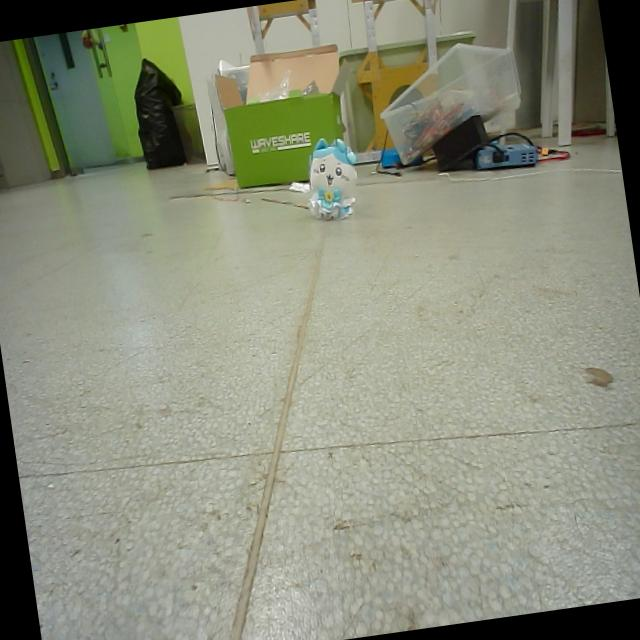xiaoba: (300, 130, 363, 226)
